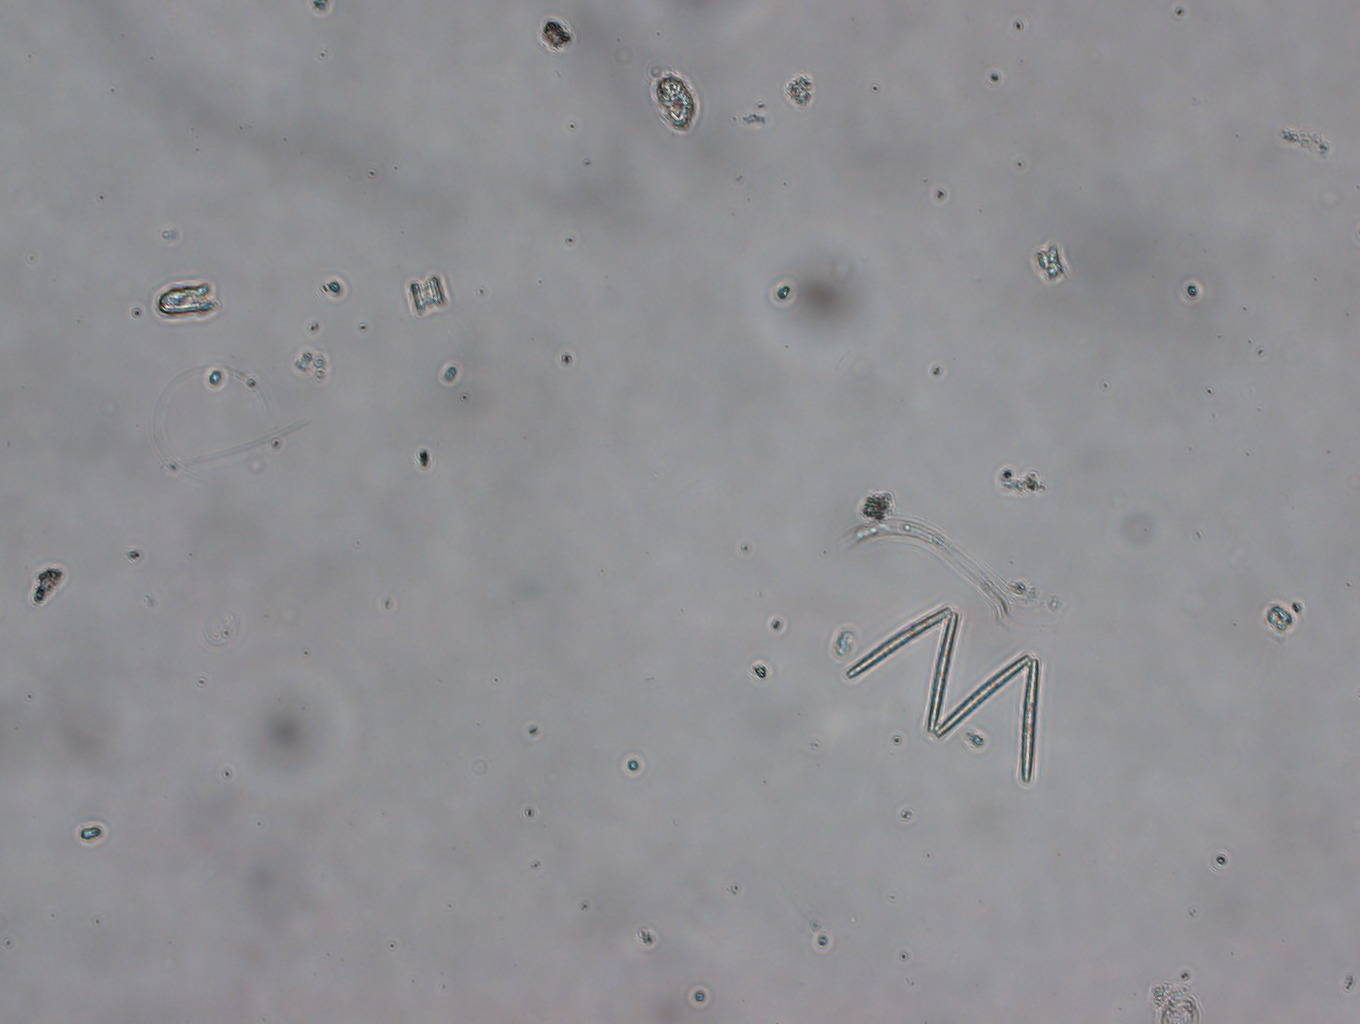thalassionema nitzschioides: (840, 592, 1048, 788)
